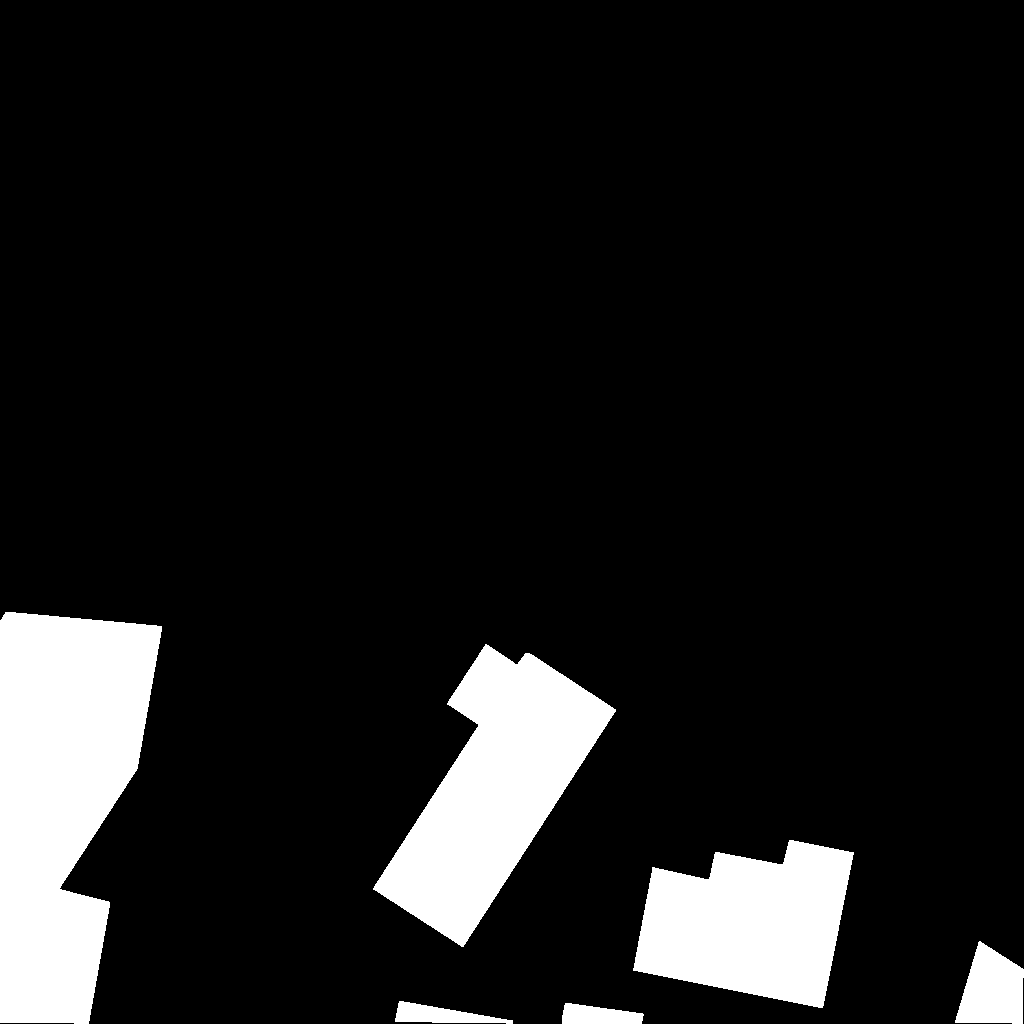building: (373, 644, 617, 948), (0, 612, 163, 1024), (633, 840, 855, 1009), (955, 941, 1024, 1024), (395, 1001, 514, 1024), (562, 1003, 645, 1024)
